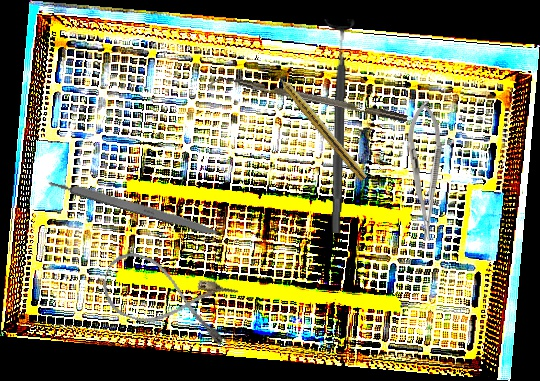Cannula: (95, 246, 240, 349)
Chopper: (207, 69, 408, 133)
Fixation Ring: (319, 18, 357, 234)
Handpiece: (271, 67, 370, 183)
Needle Holder: (406, 100, 444, 242)
Scalpel Handle: (46, 174, 225, 240)
